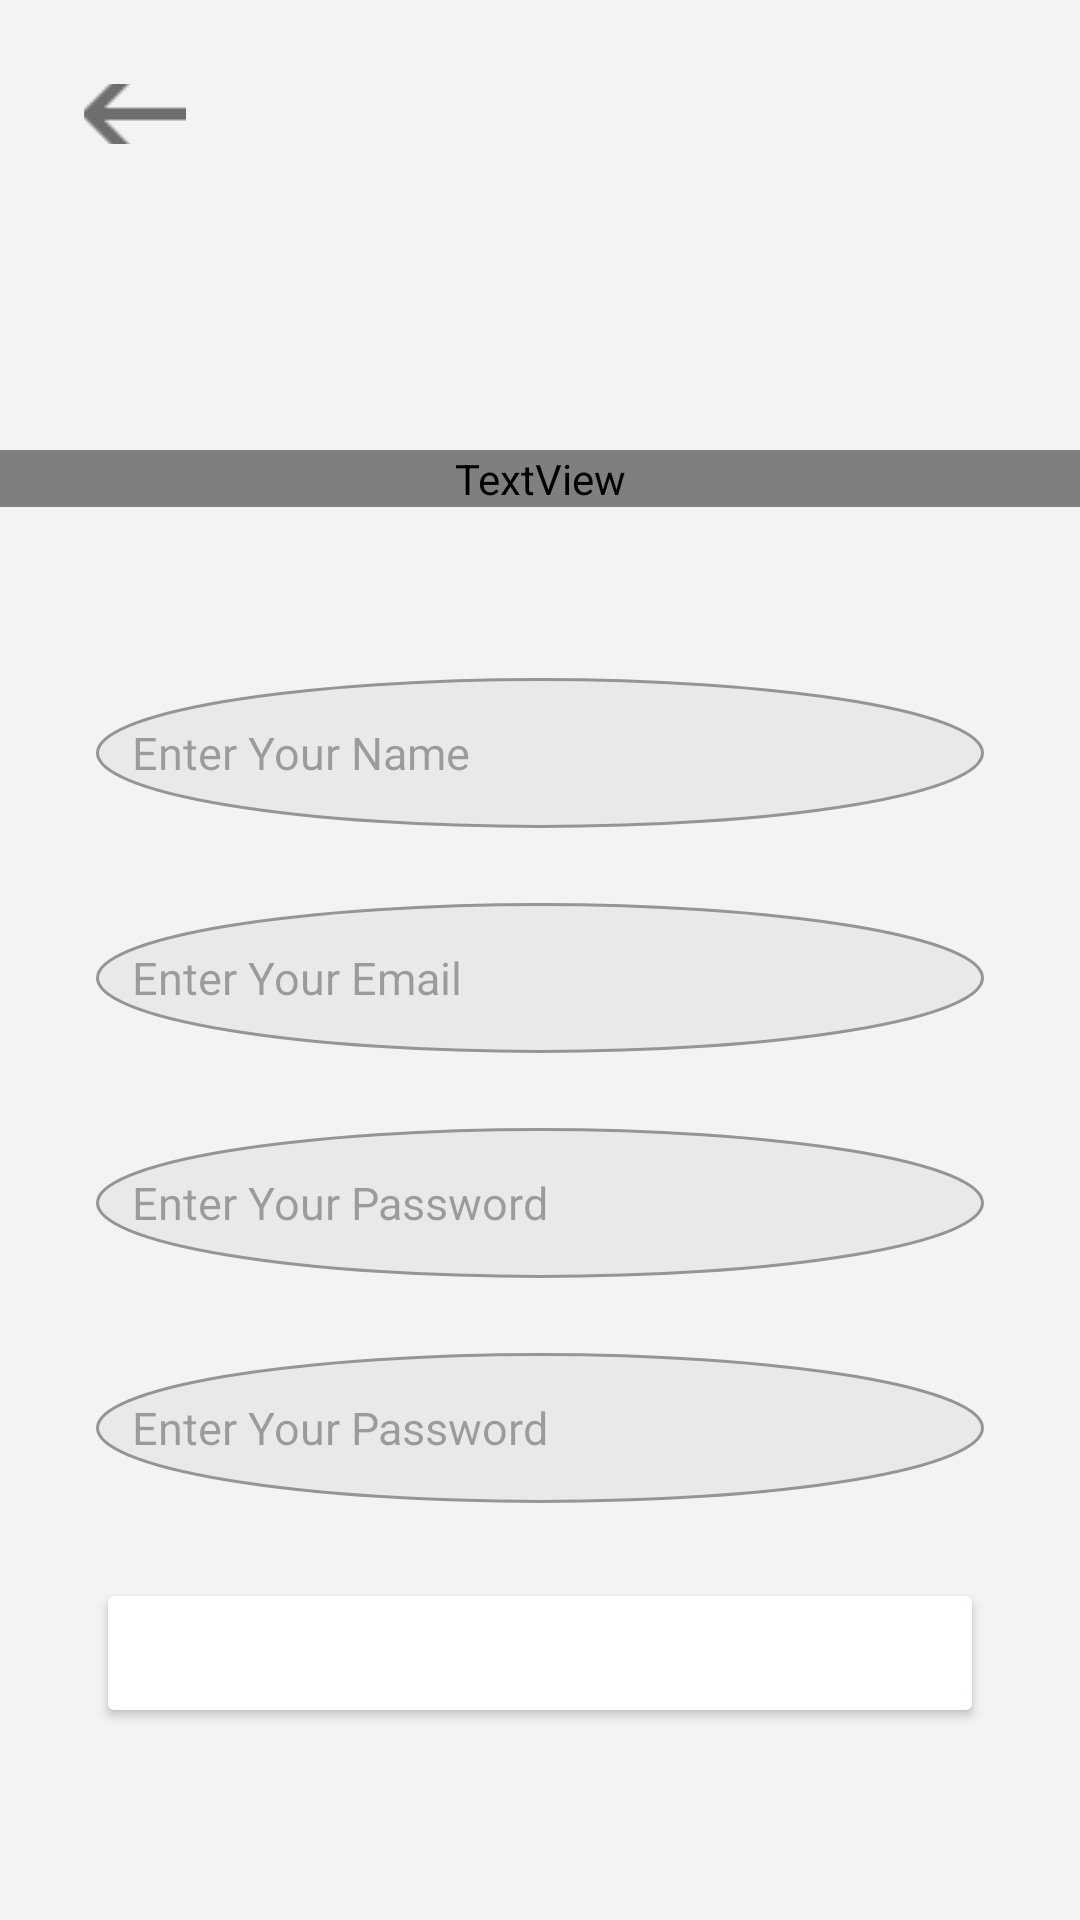

Screen size 1080px×1920px. Icon name, then its center in pixels as (x,y):
backk: (135,114)
